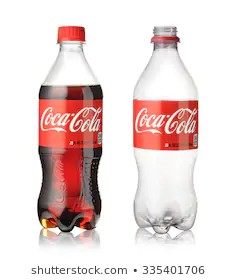coke-bottle-700ml: (131, 22, 200, 235), (38, 23, 107, 232)
